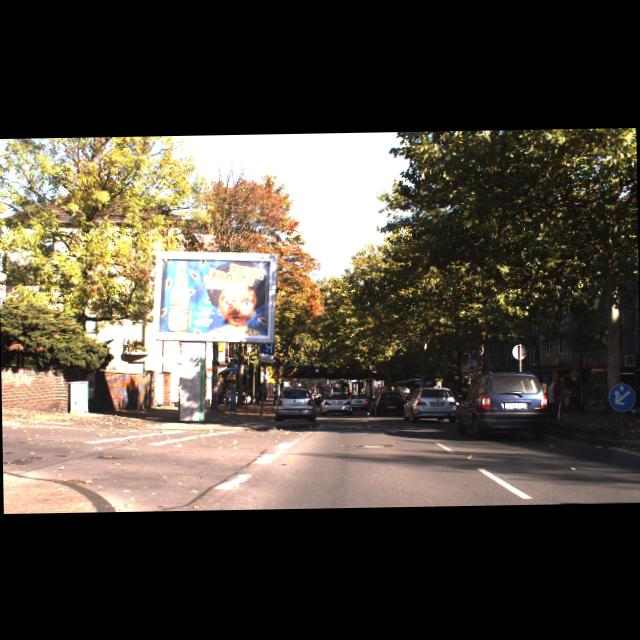mandatory: (610, 382, 638, 411)
